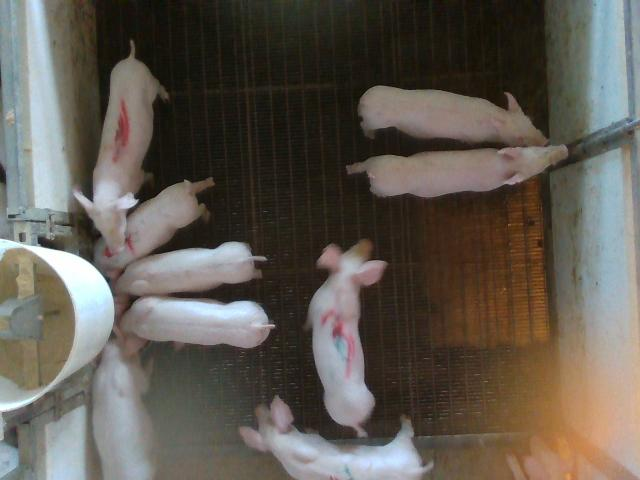pig-1: (75, 41, 169, 253)
pig-3: (305, 239, 388, 437)
pig-5: (94, 178, 213, 281)
